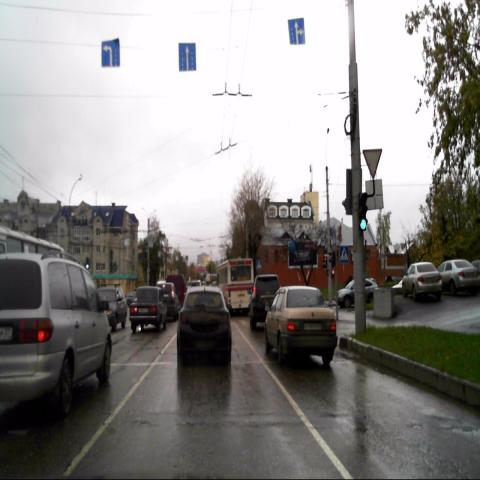5_15_2: (101, 38, 120, 68)
